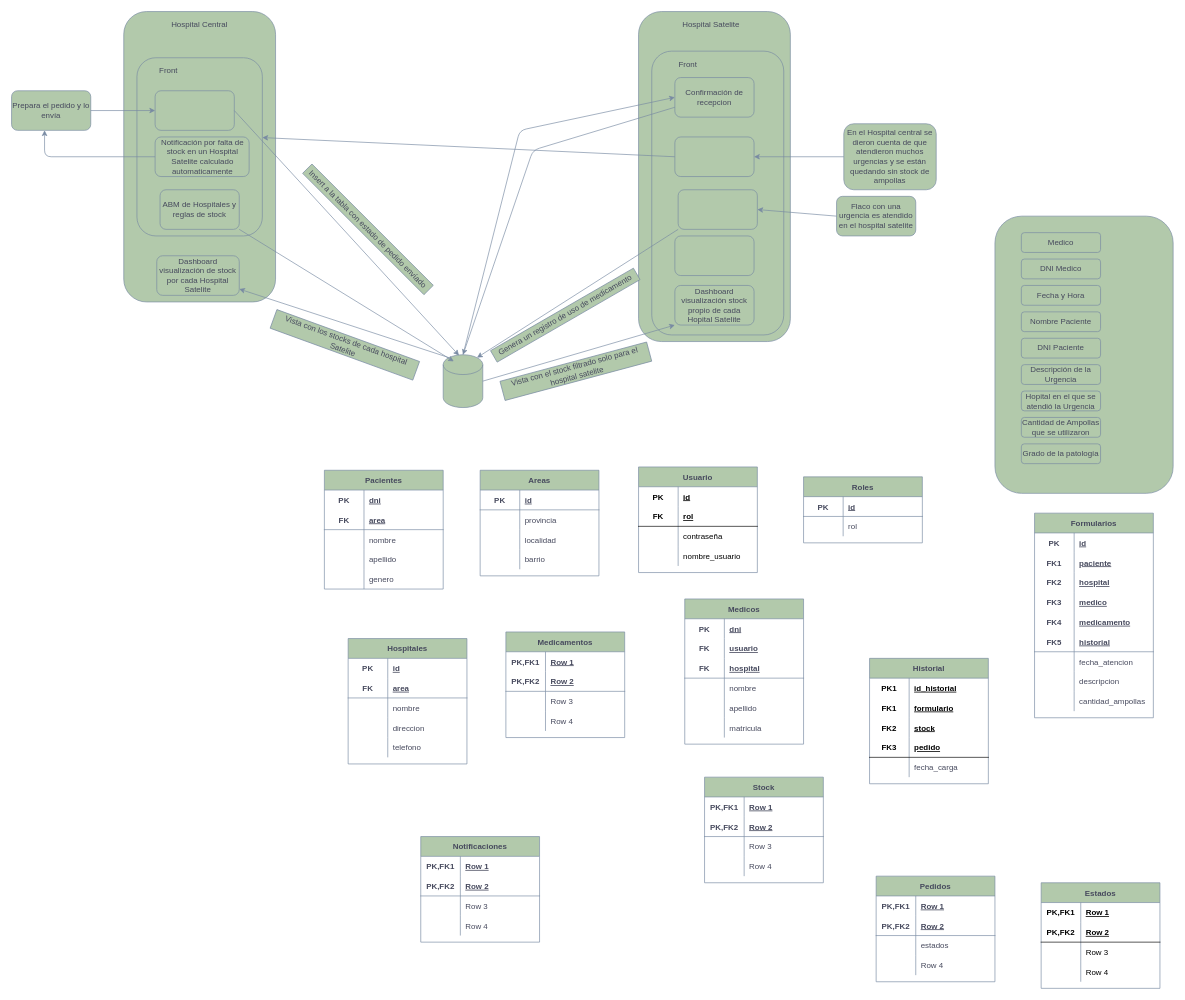
Image size: 1185x1000. Some labels were removed from this diagram. Here are the shapes that lost their labels. From the top down, the centre of each, then its label:
point (194, 110): Carga en interfaz del pedido envíado
point (714, 156): Carga de formulario por pedido especial de ampollas
point (717, 209): Carga de formulario por uso de ampollas
point (714, 255): ABM Pacientes
point (463, 381): DB STOCK
